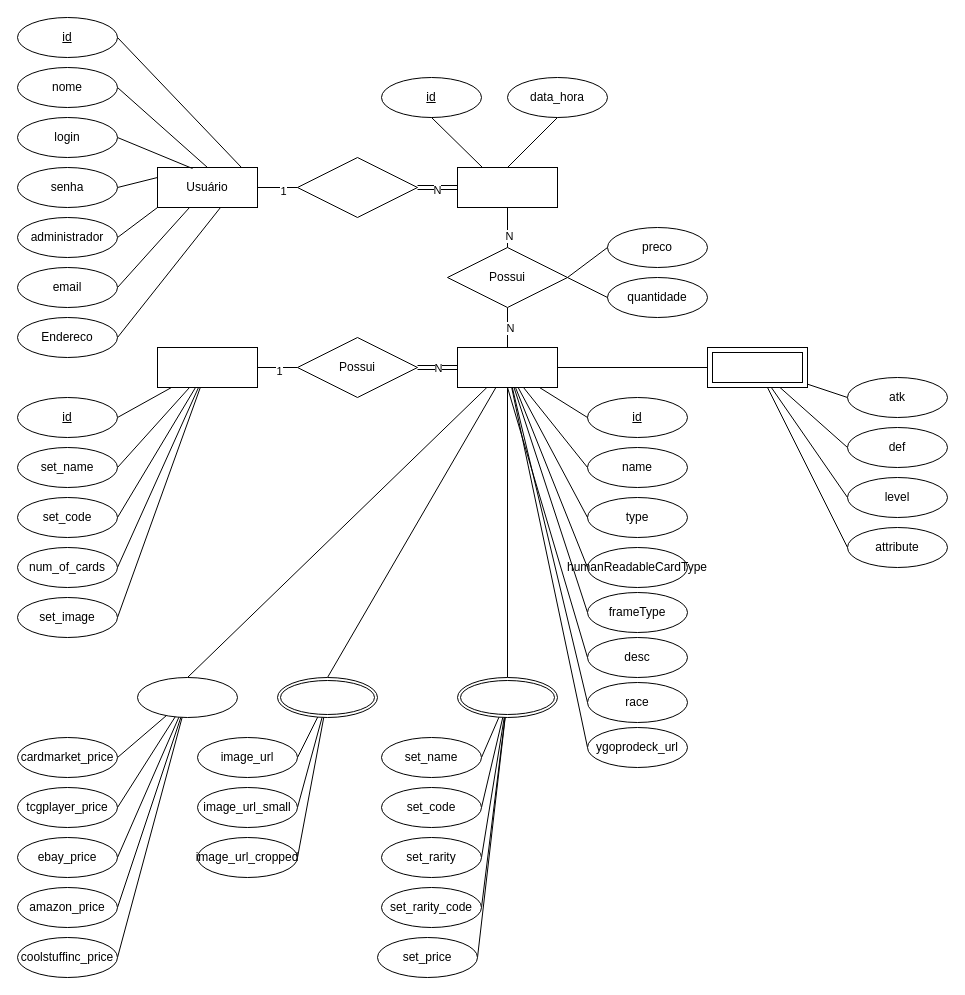
Some shapes in this 965 by 995 pixel diagram are drawn without their labels. Here are the shapes that lost their labels. From the top down, the box of each, then its label:
(296, 156, 418, 218): Realiza
(456, 166, 558, 208): Venda
(156, 346, 258, 388): Cardset
(456, 346, 558, 388): Card
(706, 346, 808, 388): Monstro
(136, 676, 238, 718): card_prices
(276, 676, 378, 718): card_images
(456, 676, 558, 718): card_sets
